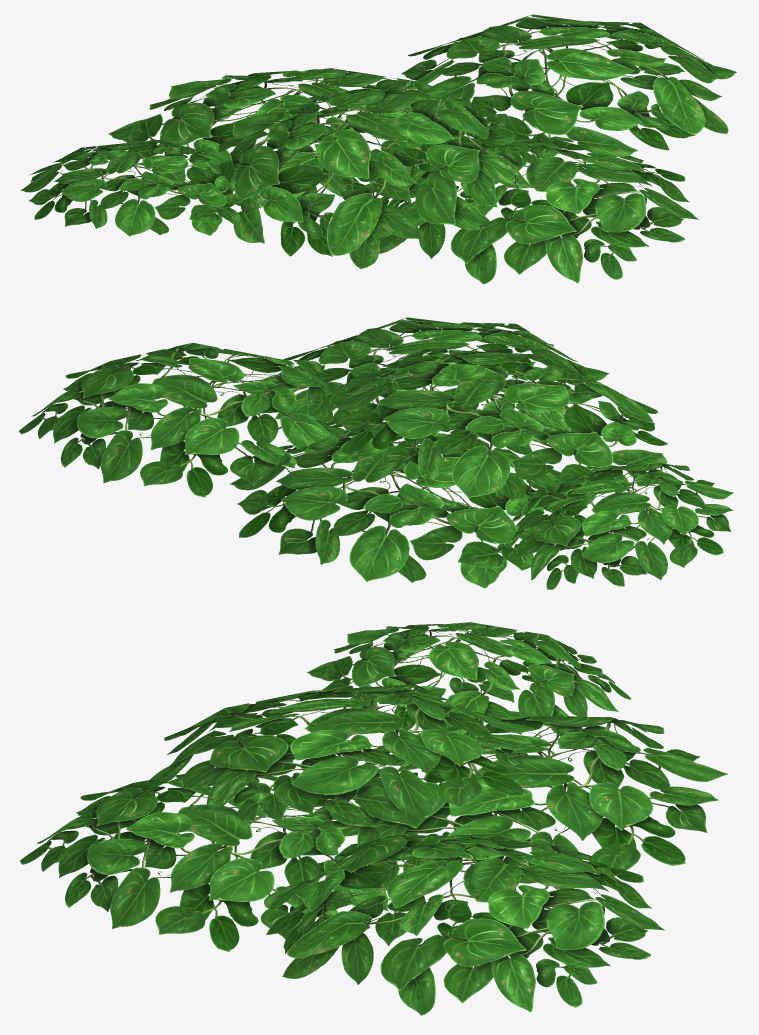
File: groundCover_01_Epimedium.FBX
3 views of the same model, one above another, from view 1: azimuth 30°, elevation 25°; view 2: azimuth 150°, elevation 25°; view 3: azimuth 270°, elevation 25° (orthographic). The views are drawn at different scales.
Parts seen in each view (by area): view 1: epimedium_cluster_05, epimedium_cluster_03, epimedium_cluster_01, epimedium_cluster_02, epimedium_cluster_04; view 2: epimedium_cluster_05, epimedium_cluster_03, epimedium_cluster_02, epimedium_cluster_04, epimedium_cluster_01; view 3: epimedium_cluster_03, epimedium_cluster_05, epimedium_cluster_01, epimedium_cluster_02, epimedium_cluster_04.
Part boxes in pixels (x1,y1,x2,y2): epimedium_cluster_05: [189, 85, 538, 269]; epimedium_cluster_03: [401, 14, 736, 158]; epimedium_cluster_01: [366, 136, 699, 284]; epimedium_cluster_02: [108, 68, 489, 208]; epimedium_cluster_04: [20, 140, 264, 236]; epimedium_cluster_05: [329, 349, 667, 505]; epimedium_cluster_03: [19, 342, 359, 497]; epimedium_cluster_02: [230, 420, 579, 588]; epimedium_cluster_04: [496, 463, 733, 589]; epimedium_cluster_01: [275, 317, 609, 461]; epimedium_cluster_03: [264, 833, 665, 1015]; epimedium_cluster_05: [148, 684, 536, 825]; epimedium_cluster_01: [20, 770, 417, 951]; epimedium_cluster_02: [316, 711, 728, 889]; epimedium_cluster_04: [307, 622, 631, 738].
Size of the model in its own units: 140 by 15.15 by 110.
